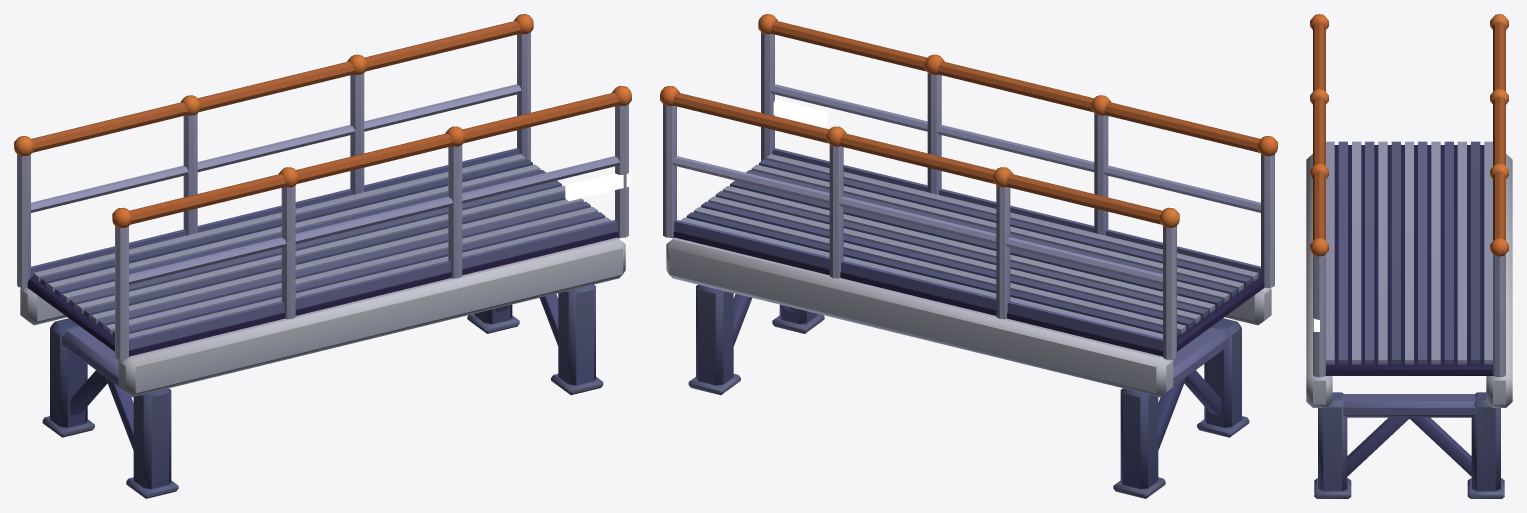
The model's file is hub_ruin_catwalk.glb.
3 views of the same model, side by side, from view 1: azimuth 30°, elevation 25°; view 2: azimuth 150°, elevation 25°; view 3: azimuth 270°, elevation 25° (orthographic). The views are drawn at different scales.
Visible parts, largest first — view 1: hub_ruin_catwalk; view 2: hub_ruin_catwalk; view 3: hub_ruin_catwalk.
Boxes of the visible parts, x1,y1,x2,y2 form: hub_ruin_catwalk: (14,14,631,498); hub_ruin_catwalk: (660,14,1277,498); hub_ruin_catwalk: (1306,14,1512,498).
Bounding box in the file's own units: 4.14 × 2.26 × 1.56.
